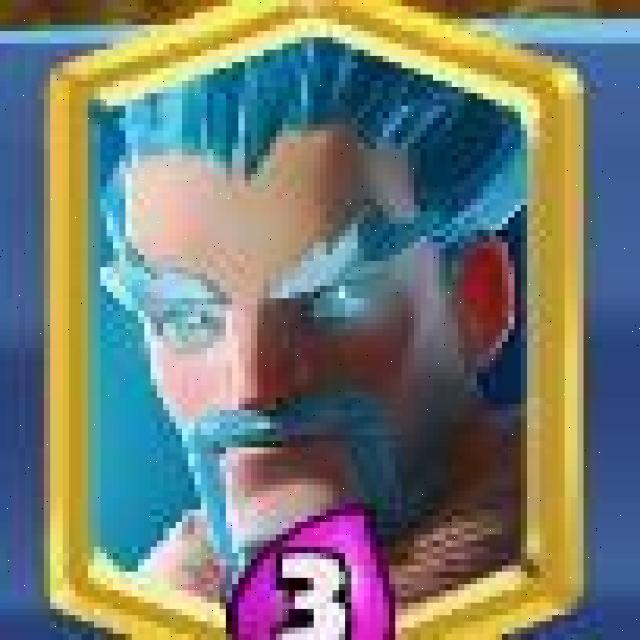Ice_Wizard: (34, 5, 590, 640)
